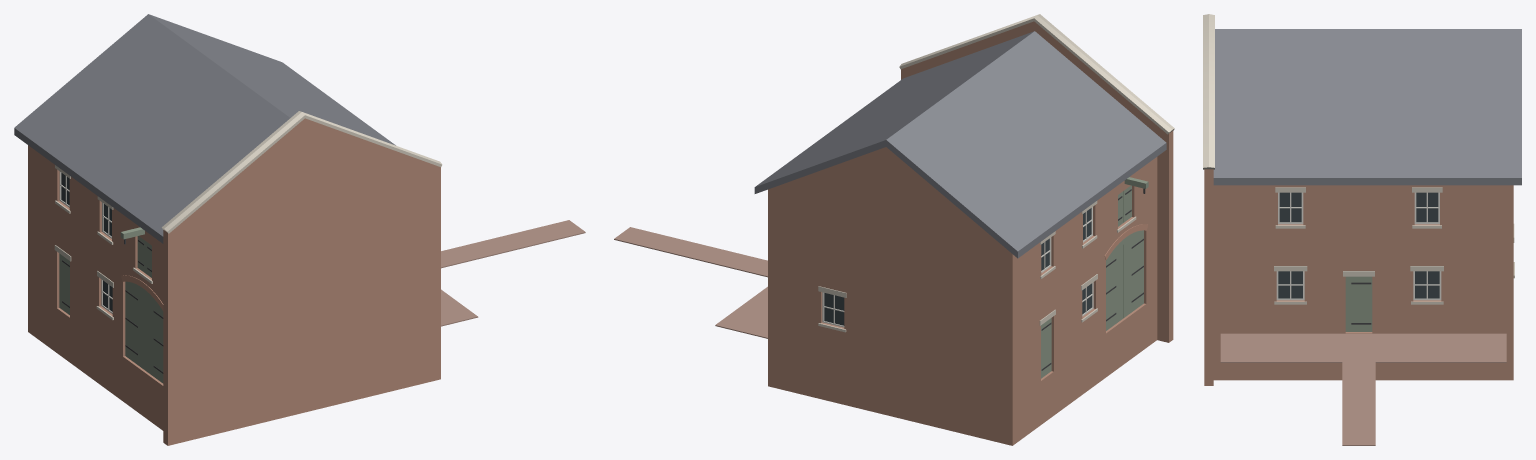
The model's file is shortall_gregory_house_1638_prairie_coach_house__as_standing_1904.glb.
3 renders of one model, left to right at view 1: azimuth 30°, elevation 25°; view 2: azimuth 150°, elevation 25°; view 3: azimuth 270°, elevation 25°, orthographic. The views are drawn at different scales.
Visible parts, largest first — view 1: shortall_gregory_house_1638_prairie_coach_house__as_standing; view 2: shortall_gregory_house_1638_prairie_coach_house__as_standing; view 3: shortall_gregory_house_1638_prairie_coach_house__as_standing.
Part boxes in pixels (x1,y1,x2,y2): shortall_gregory_house_1638_prairie_coach_house__as_standing: [14, 14, 585, 445]; shortall_gregory_house_1638_prairie_coach_house__as_standing: [614, 14, 1174, 445]; shortall_gregory_house_1638_prairie_coach_house__as_standing: [1203, 14, 1521, 445].
Bounding box in the file's own units: 20.78 × 12 × 11.39.
